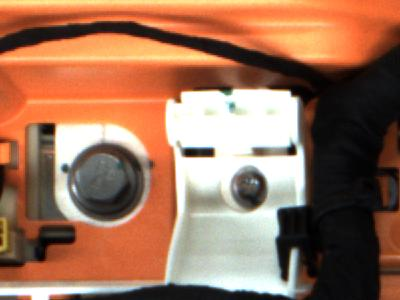nut_b: (61, 141, 150, 221)
